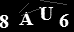6: (58, 13, 71, 28)
8: (1, 14, 9, 29)
A: (19, 12, 35, 26)
U: (38, 6, 54, 21)
